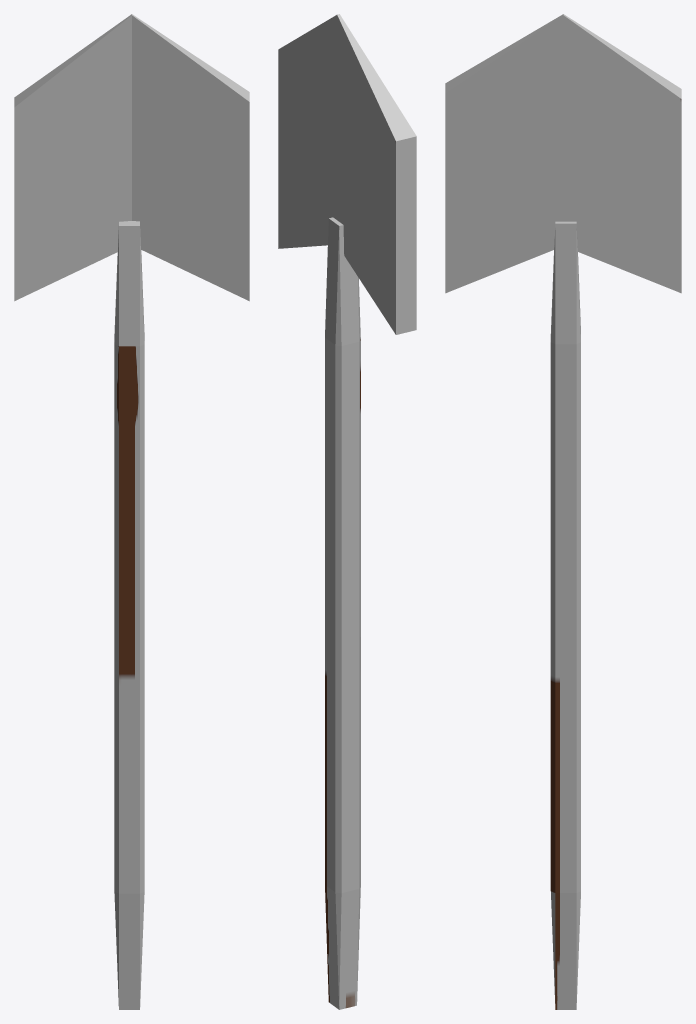
Rendered from Shovel.fbx.
3 renders of one model, left to right at view 1: azimuth 90°, elevation 25°; view 2: azimuth 210°, elevation 25°; view 3: azimuth 270°, elevation 25°, orthographic.
Parts seen in each view (by area): view 1: Cube; view 2: Cube; view 3: Cube.
Boxes of the visible parts, x1,y1,x2,y2 form: Cube: (14, 14, 249, 1009); Cube: (278, 14, 416, 1009); Cube: (445, 14, 681, 1009).
Bounding box in the file's own units: 15.12 × 494 × 107.
Materials: 1 (1 with a texture image).
